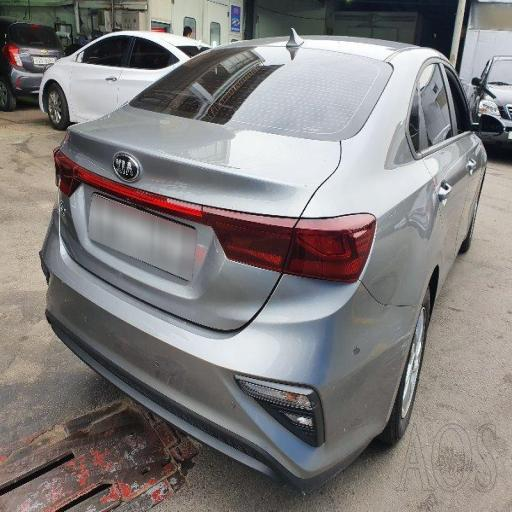scratch: (34, 161, 88, 252)
